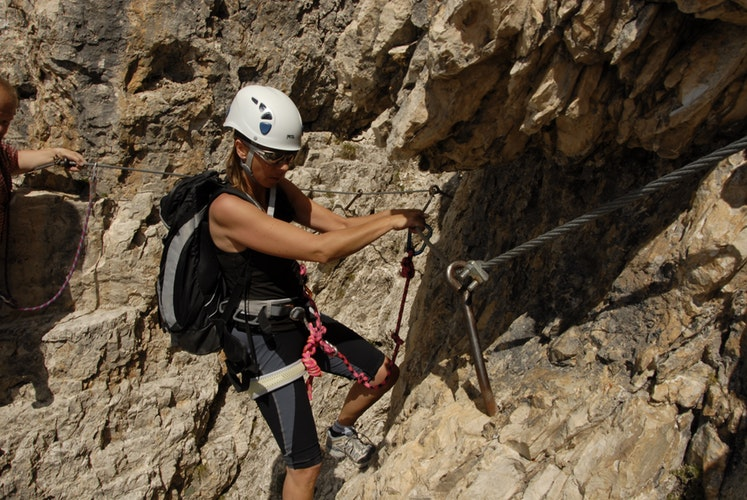helmet: (225, 78, 309, 155)
